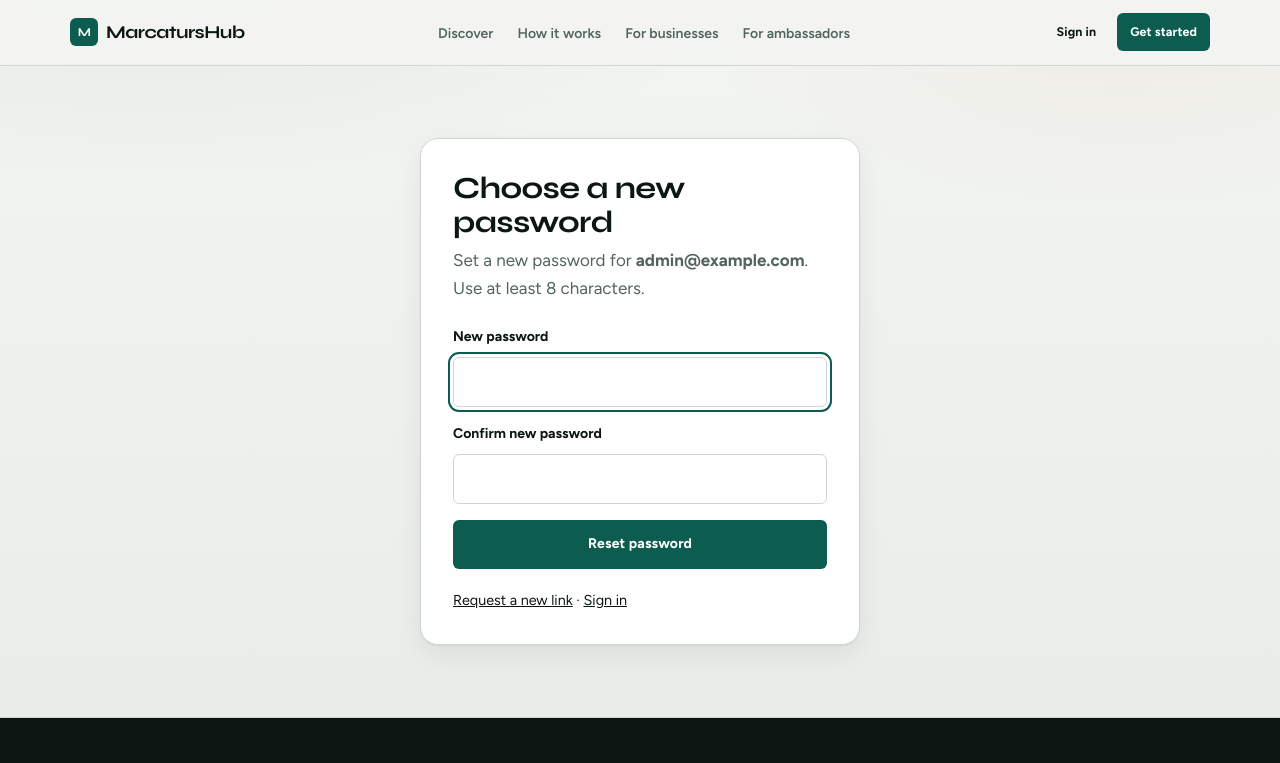
MH-FE-022 password reset › does not link an administrator to an invalid admin origin
This screenshot has width=1280, height=763.
Step 1. Type "NewPass123!" into the password field labelled "New password" → coordinates (640, 382), box [453,357,827,407]
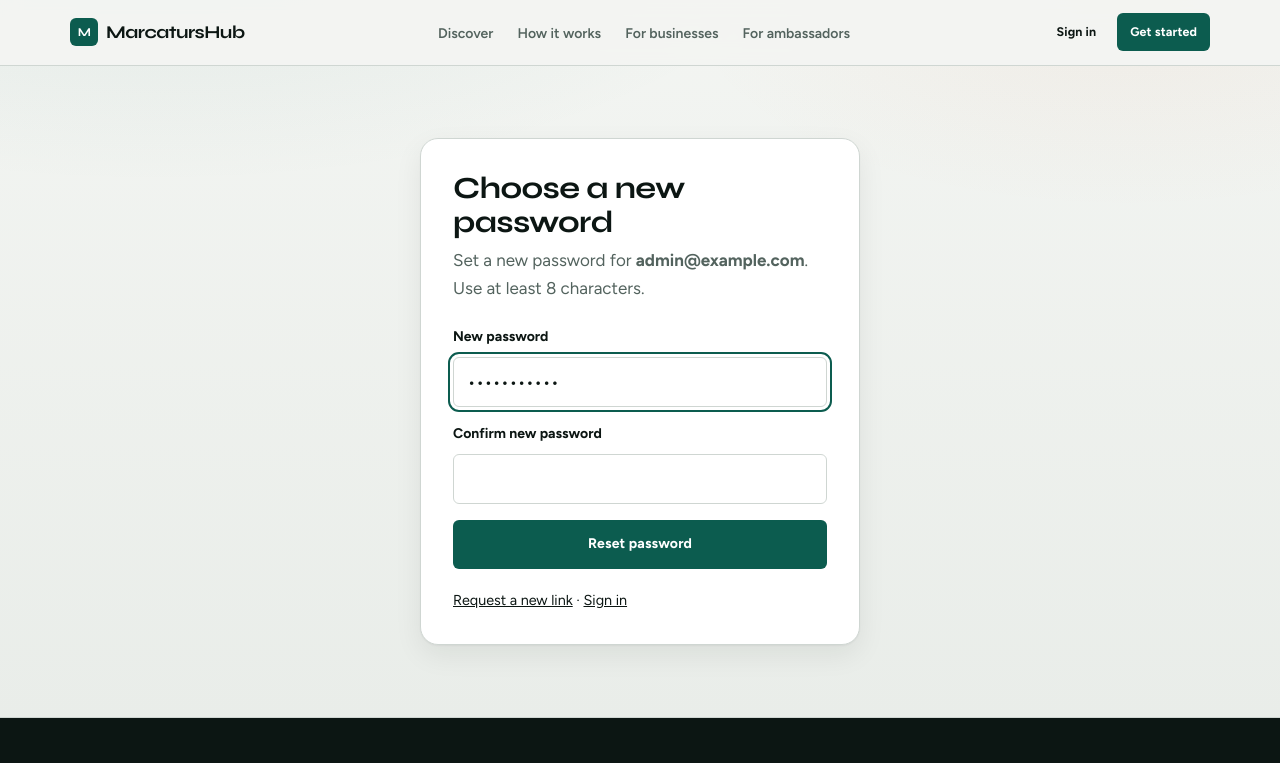
Step 2. Type "NewPass123!" into the password field labelled "Confirm new password" → coordinates (640, 479), box [453,454,827,504]
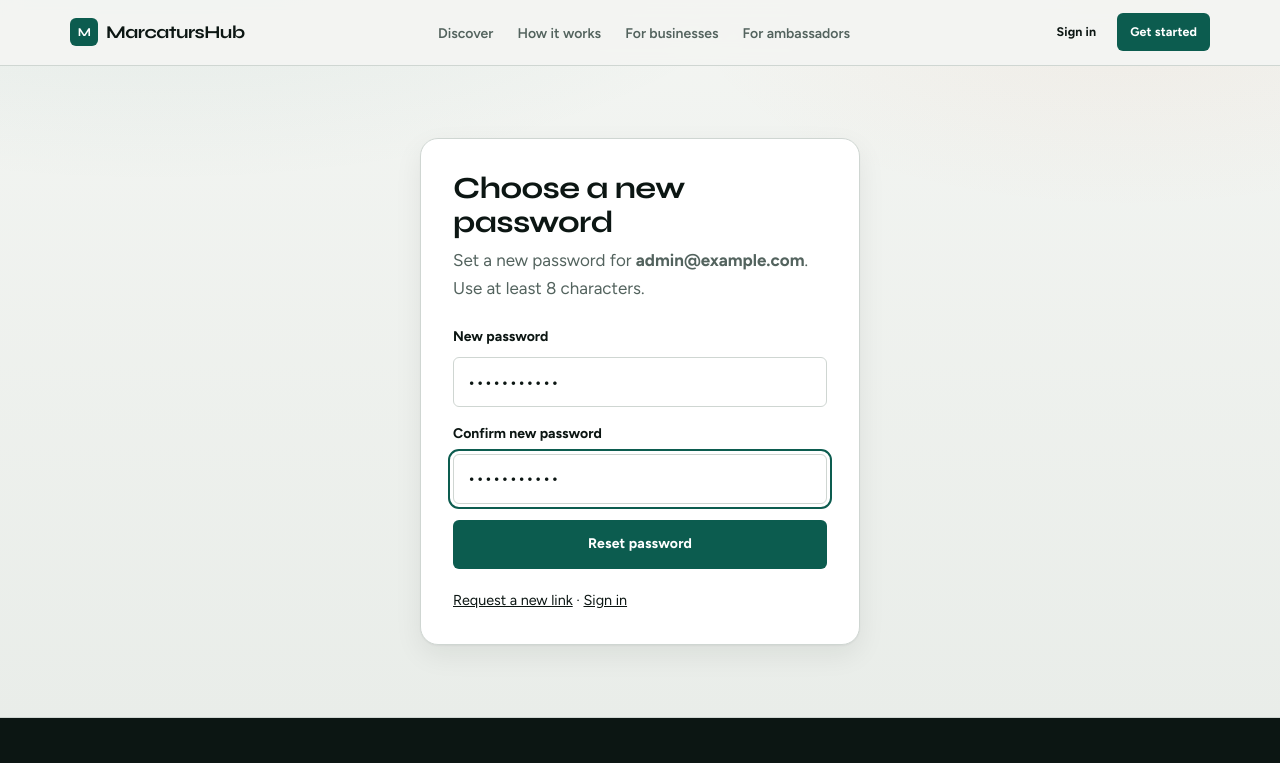
Step 3. Click the button "Reset password" → coordinates (640, 545), box [453,520,827,569]
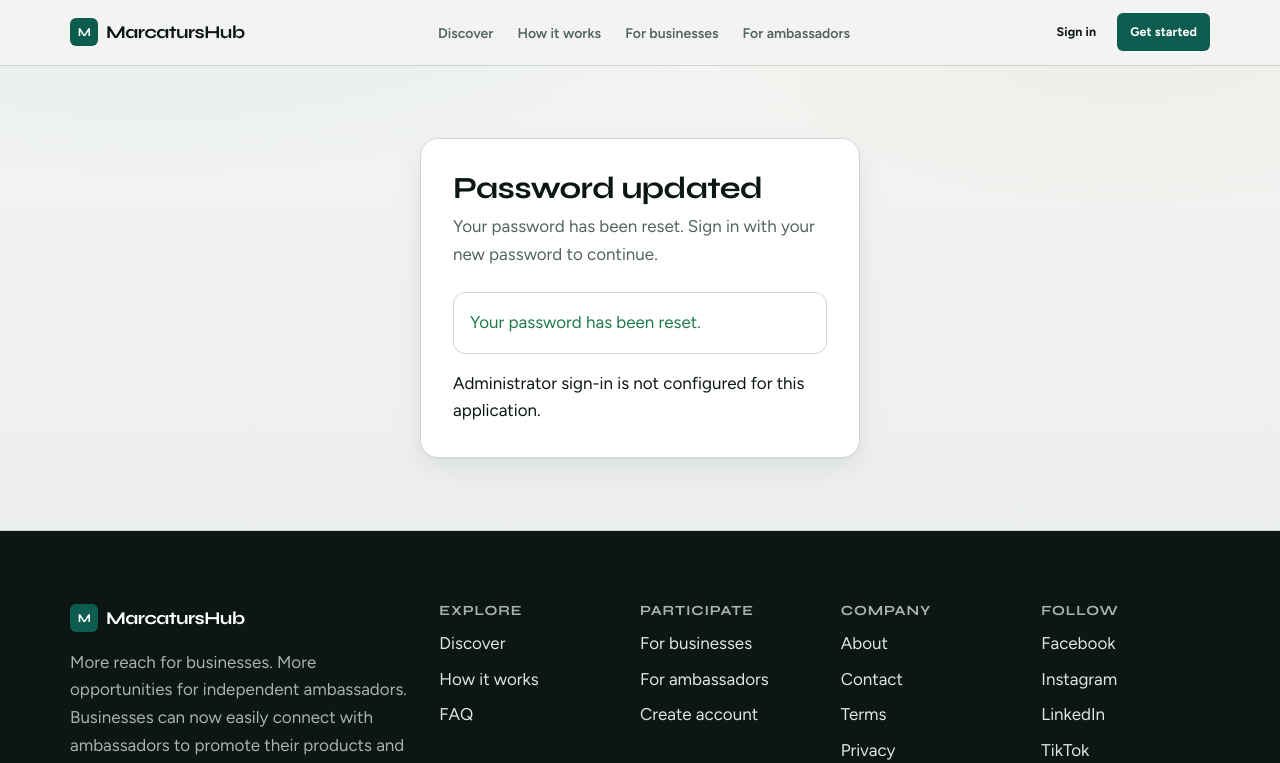
Expected: the heading "Password updated" is shown, [453,170,762,206]
Expected: the text "Administrator sign-in is not configured for this application." is shown, [453,370,827,425]
